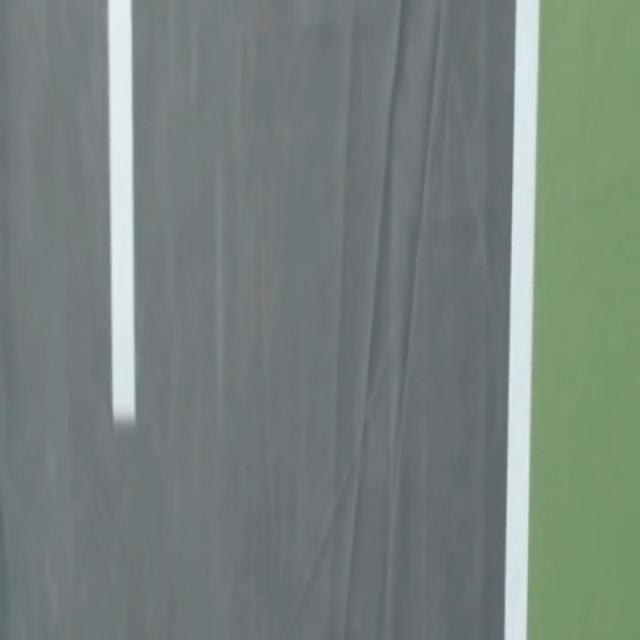center: (108, 0, 136, 425)
right: (504, 0, 539, 639)
